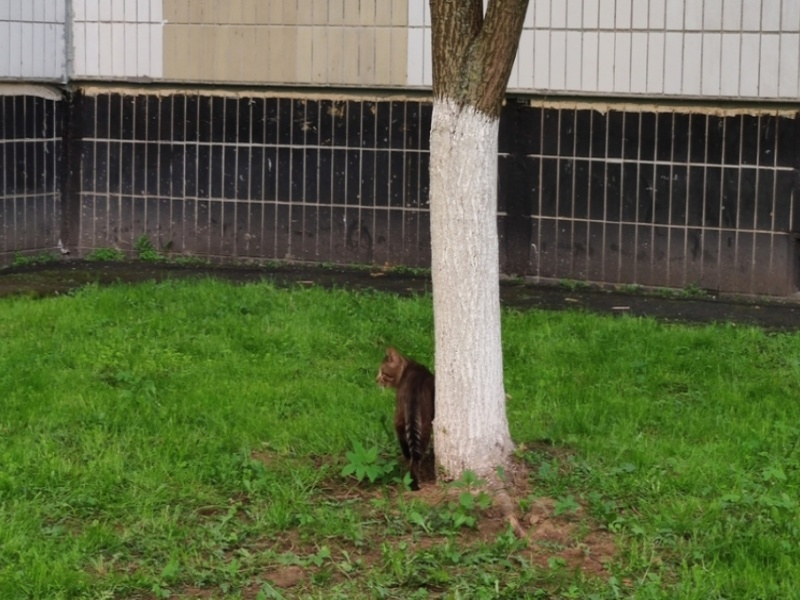cat: (371, 341, 438, 491)
